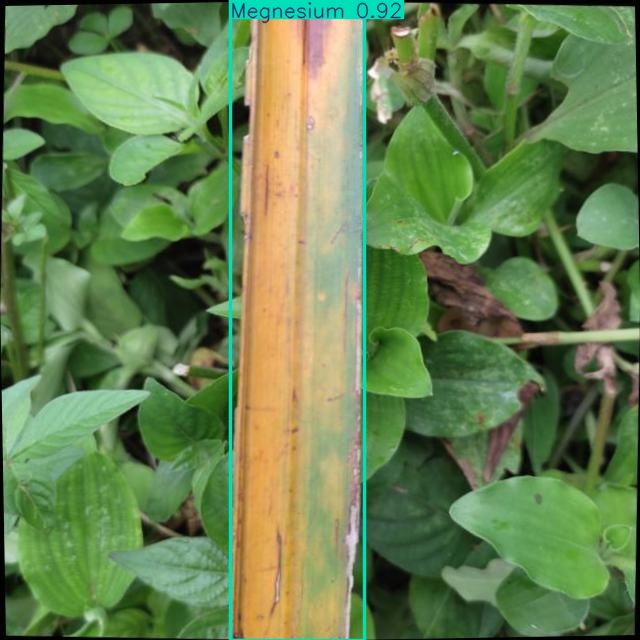Megnesium: (231, 1, 364, 640)
